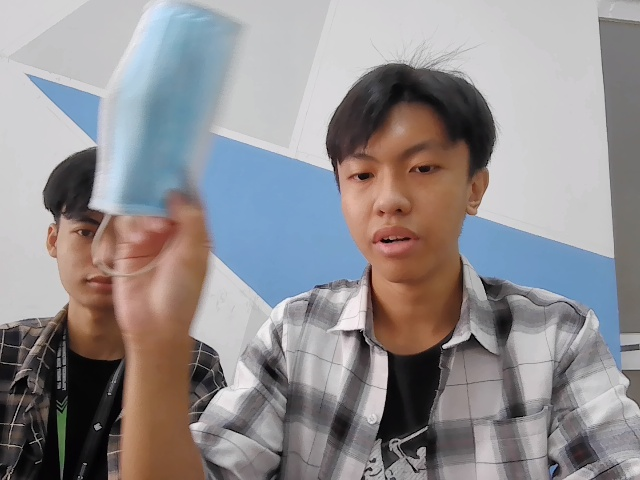human: (338, 71, 492, 272)
mask: (96, 3, 239, 228)
